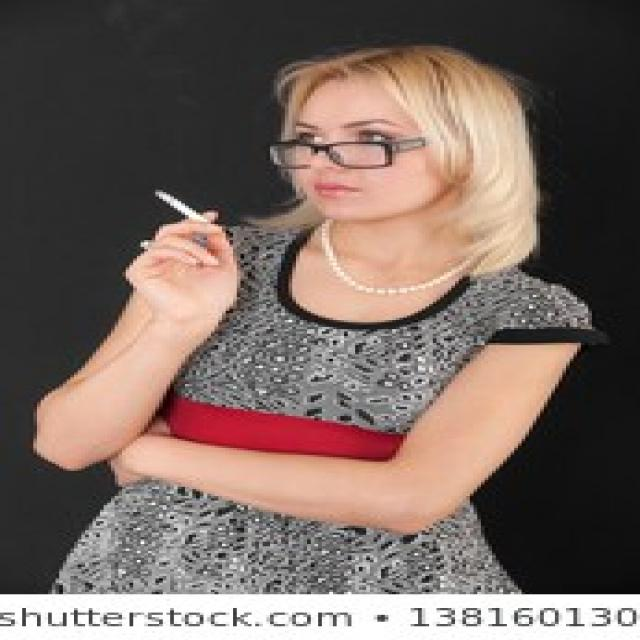smoke: (142, 182, 220, 236)
